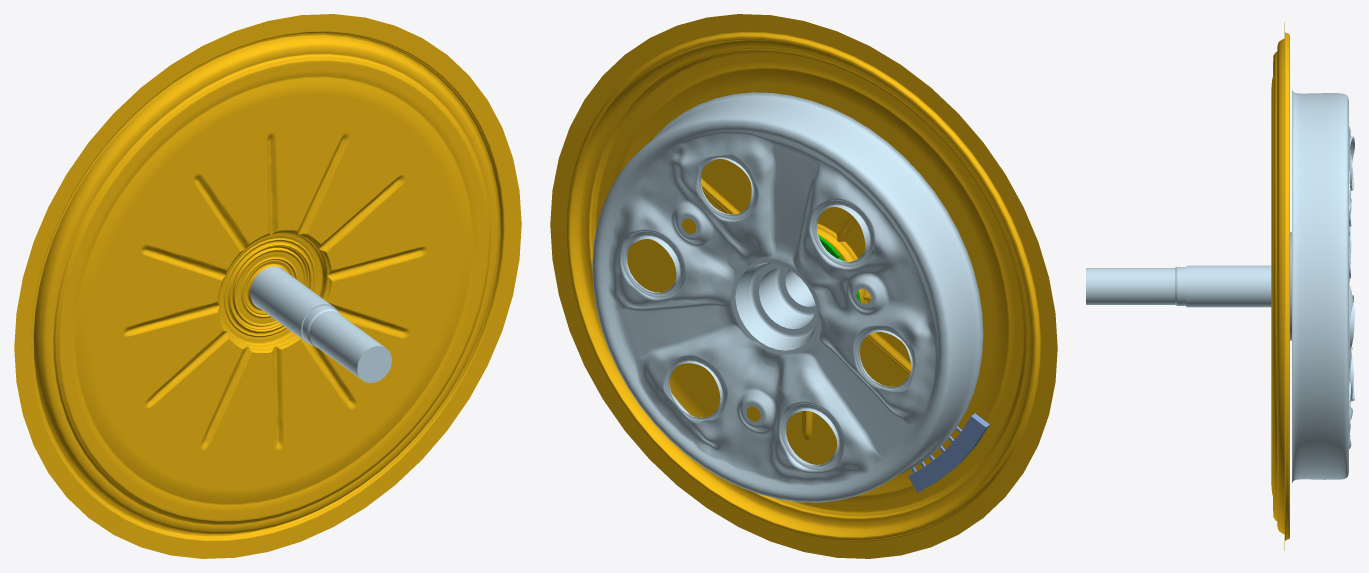
The model's file is Stator3Dscan.glb.
The picture shows the model from 3 angles, left to right: view 1: azimuth 30°, elevation 25°; view 2: azimuth 150°, elevation 25°; view 3: azimuth 270°, elevation 25°; orthographic projection. The views are drawn at different scales.
Parts seen in each view (by area): view 1: Surface 3, Surface 12; view 2: Surface 12, Surface 3, Part 1; view 3: Surface 12, Surface 3.
Part boxes in pixels (x1,y1,x2,y2): Surface 3: [14, 14, 521, 558]; Surface 12: [250, 266, 391, 383]; Surface 12: [592, 92, 983, 502]; Surface 3: [550, 14, 1057, 558]; Part 1: [908, 413, 989, 492]; Surface 12: [1086, 90, 1354, 482]; Surface 3: [1271, 22, 1289, 550].
Bounding box in the file's own units: 0.2211 × 0.2211 × 0.109.
